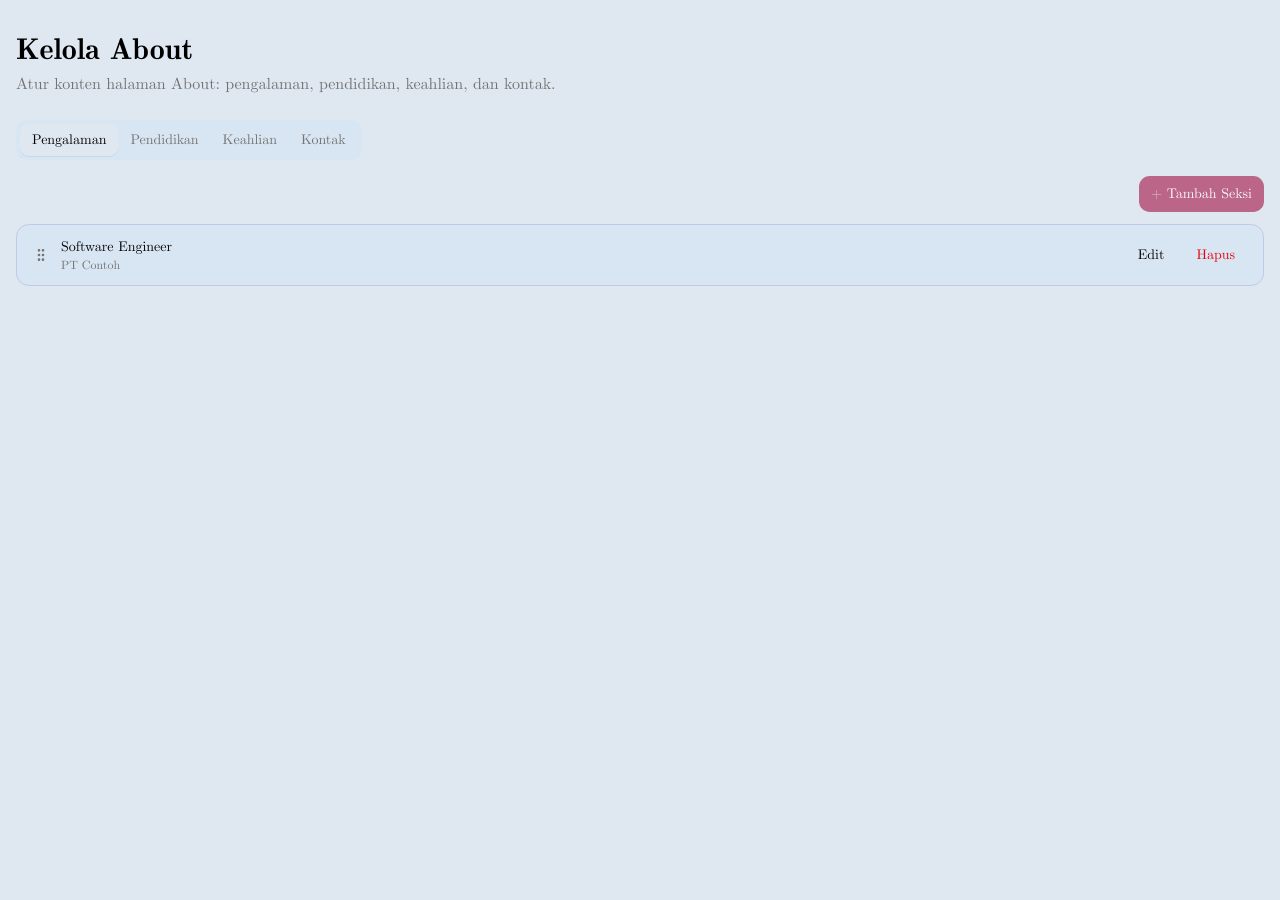
Scenario: AboutAdminPage › "Tambah Seksi" membuka dialog form
Click the button with test id "add-section-button" at (1202, 194), box [1139,176,1264,212]
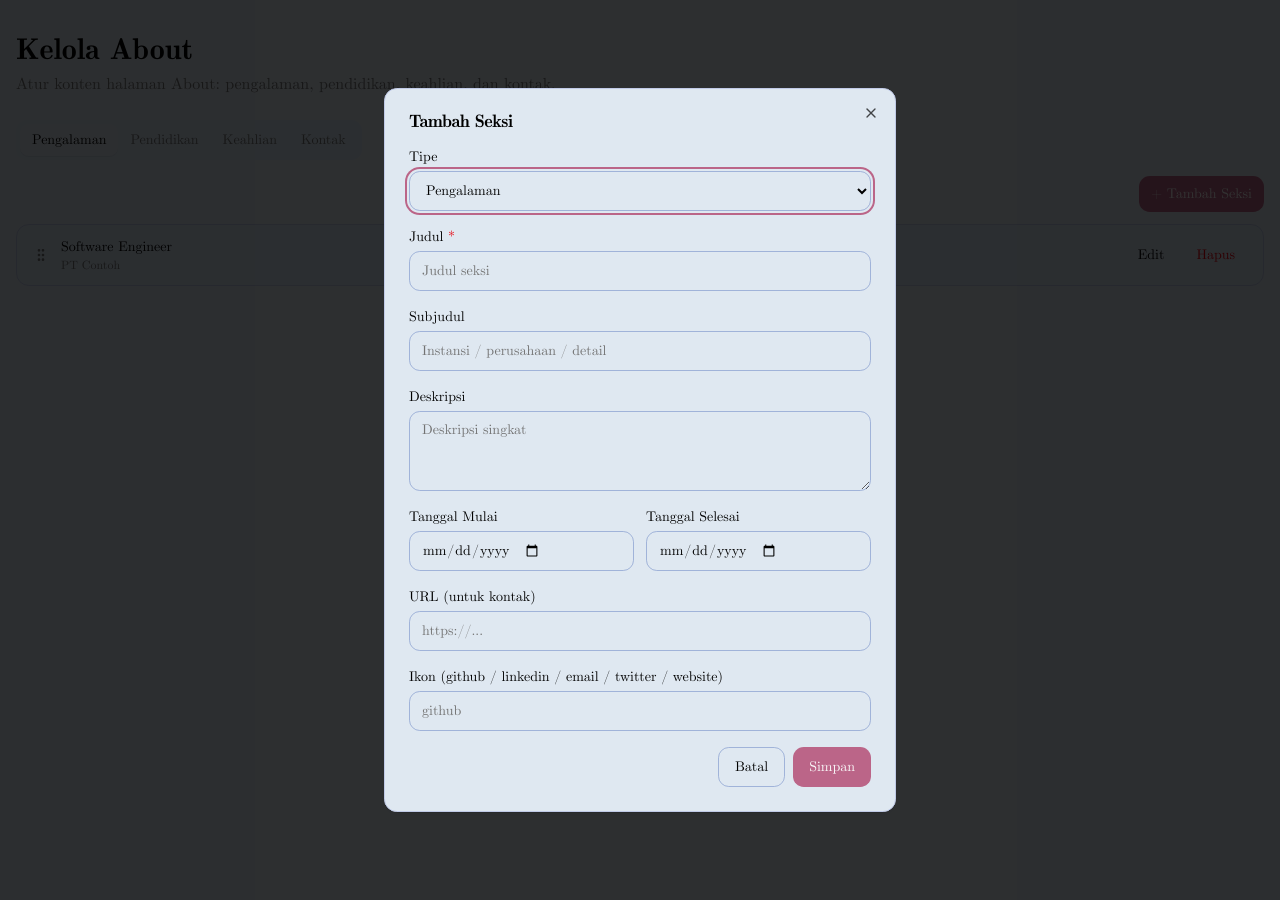
Now the heading "Tambah Seksi" is shown, box [409,113,512,131]
Now the field labelled "Judul *" is shown, box [409,251,871,291]
